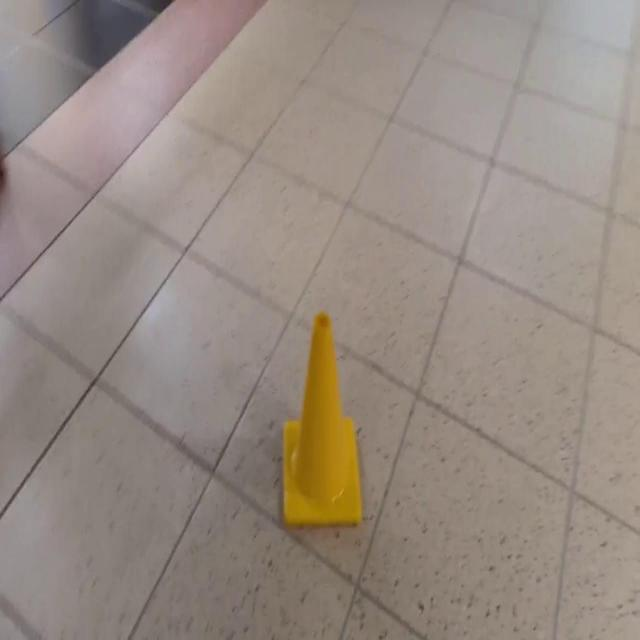frc_cone: (283, 308, 365, 526)
